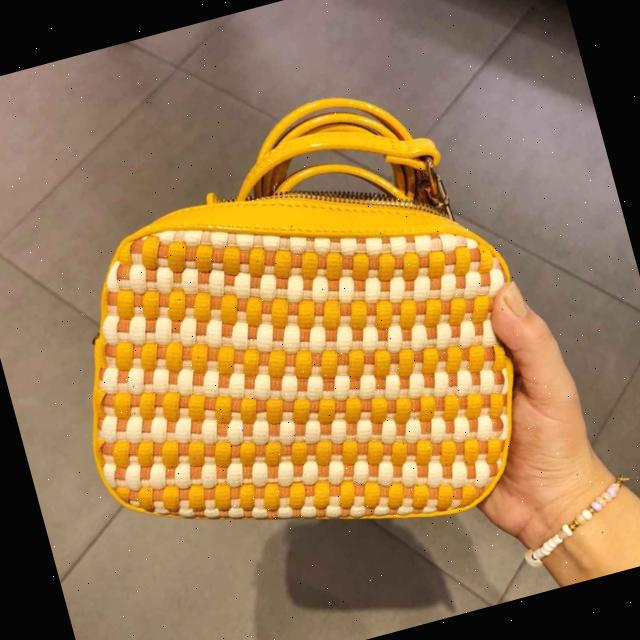Handbag: (27, 110, 559, 606)
